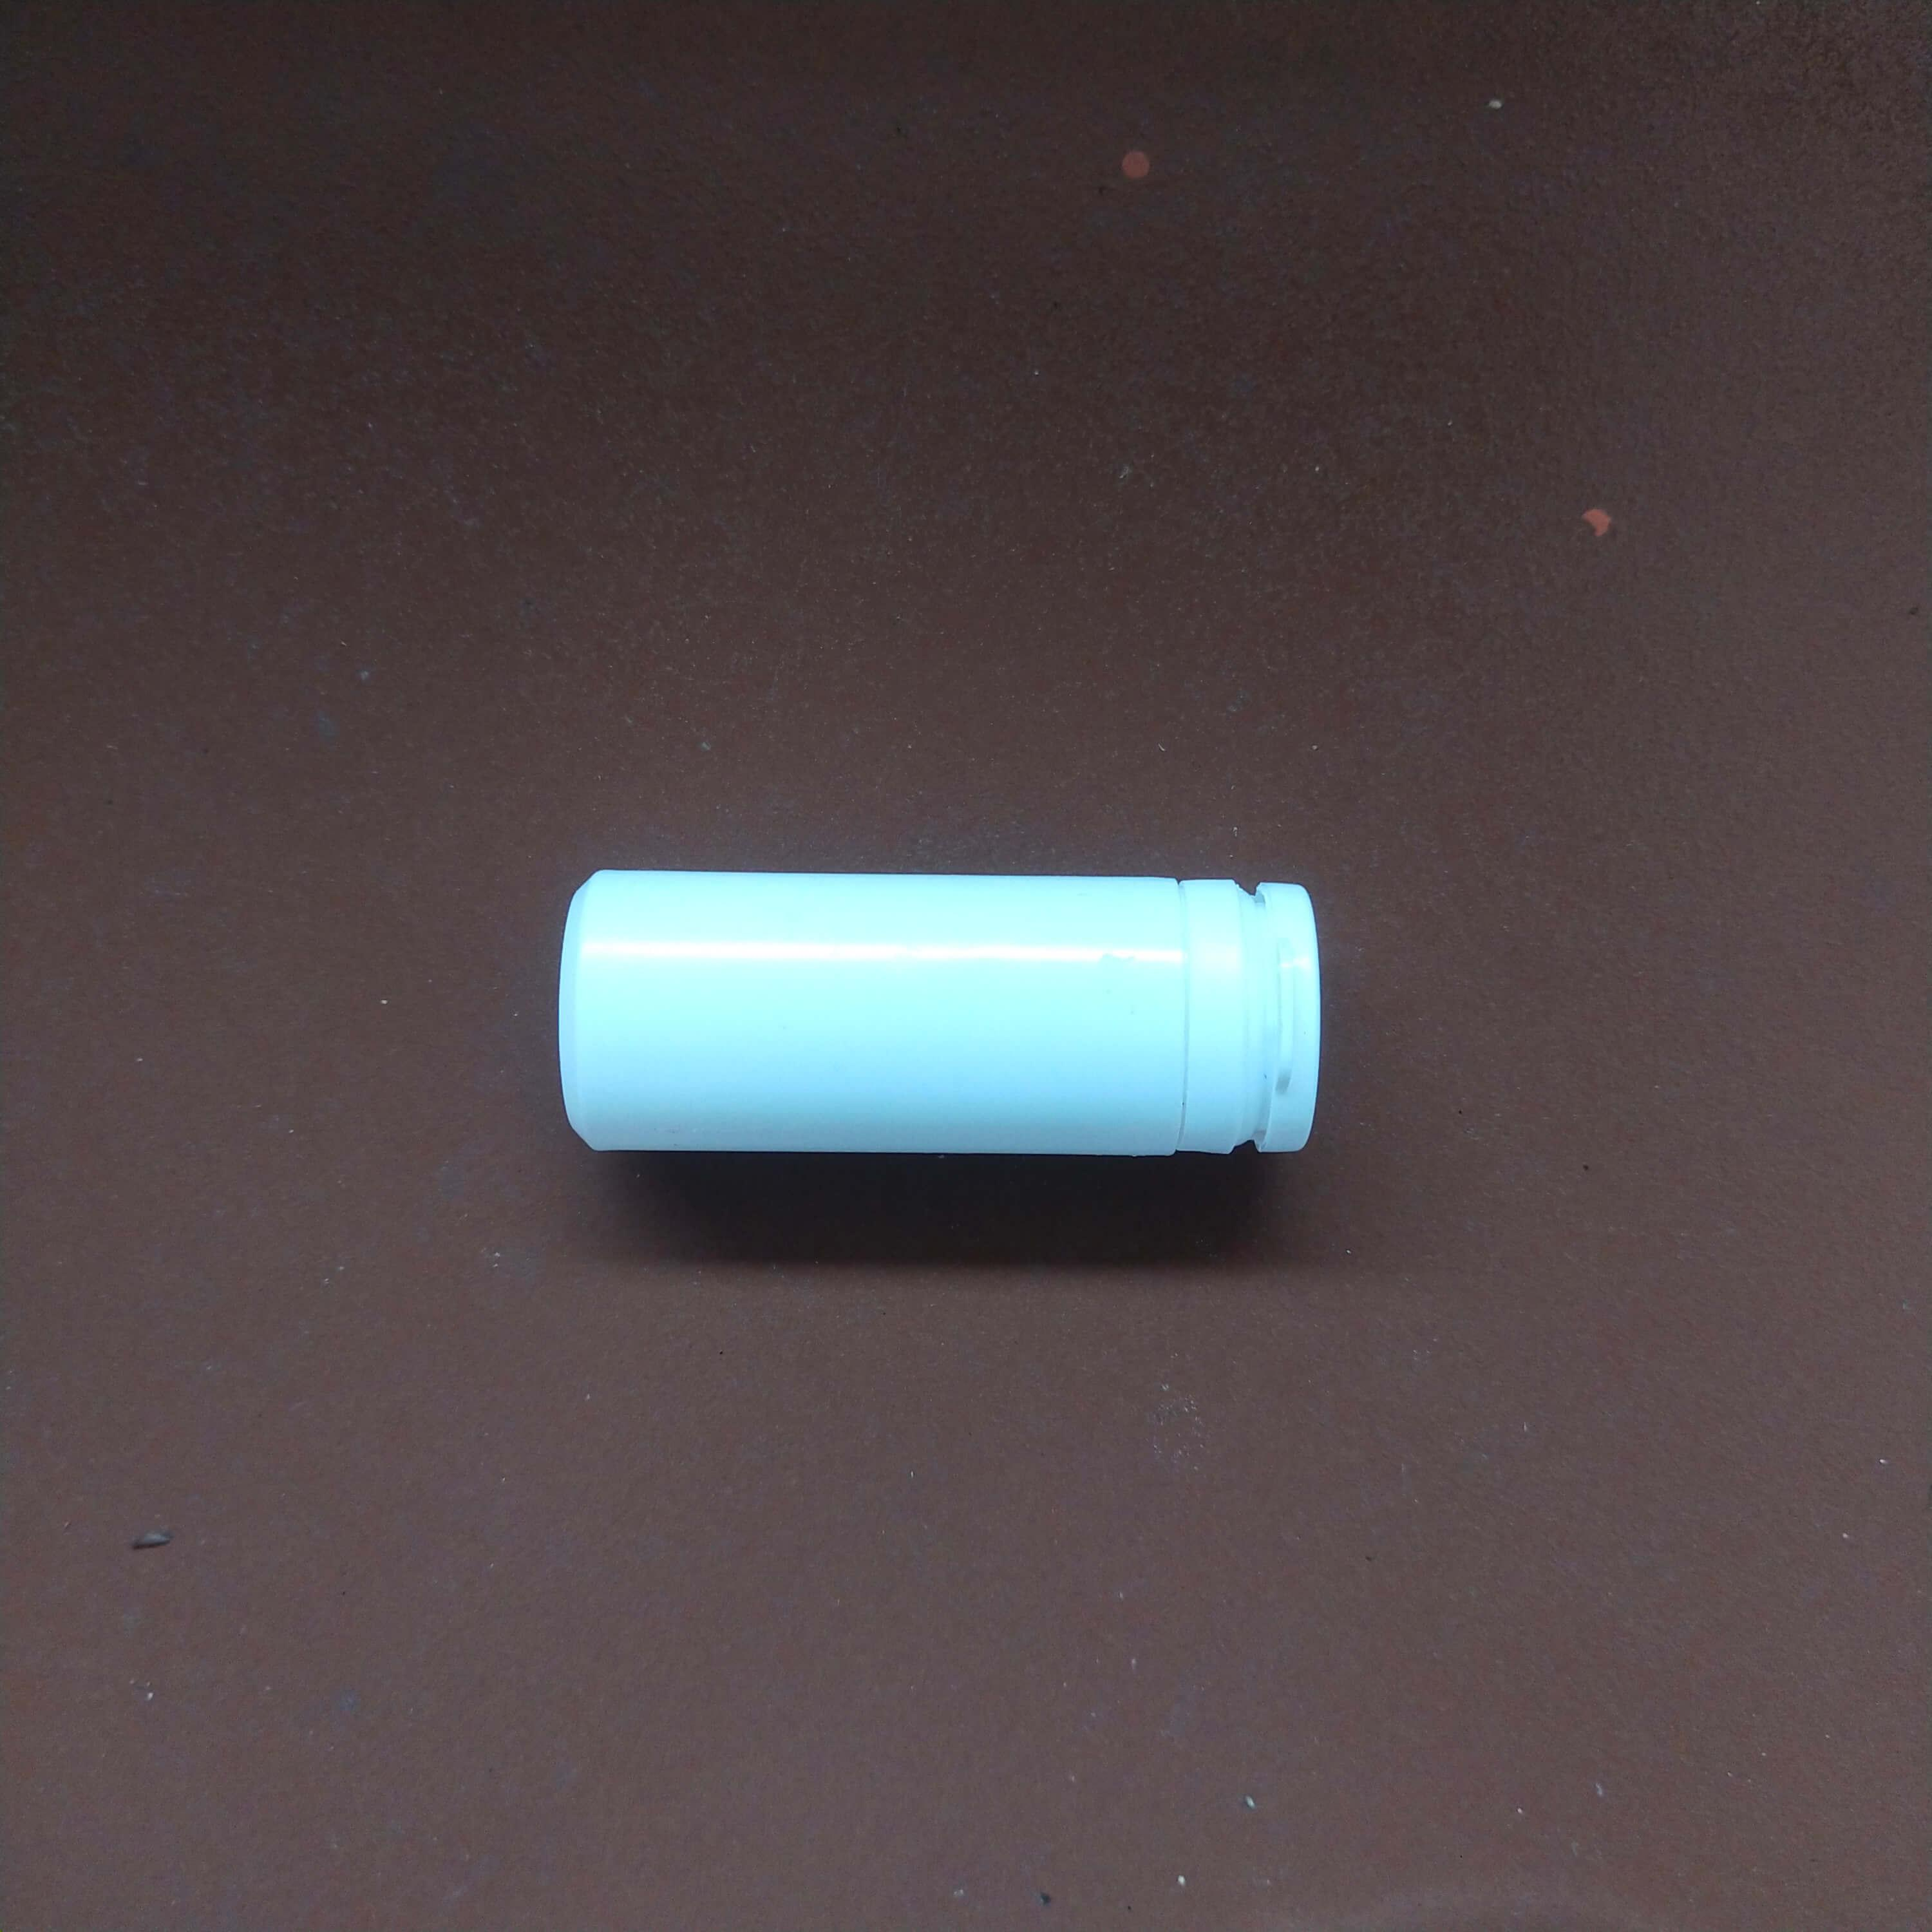plastic box: (538, 832, 1376, 1226)
